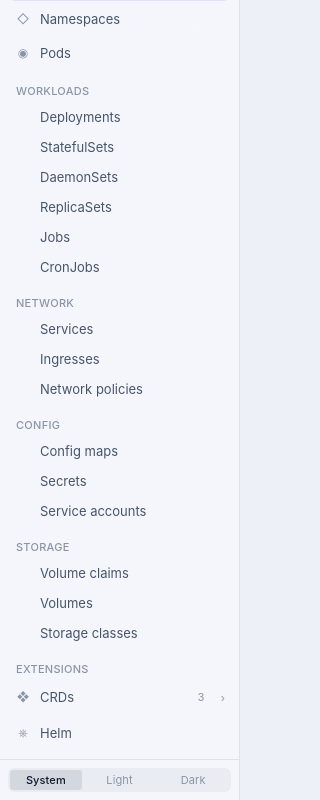
Test: Sidebar CRDs section › collapses again without navigating
(page scrolled)
Expected: the text "3" is shown, [197, 689, 205, 705]
Click the button named "Expand CRDs". click: (223, 698)
box: [215, 681, 231, 715]
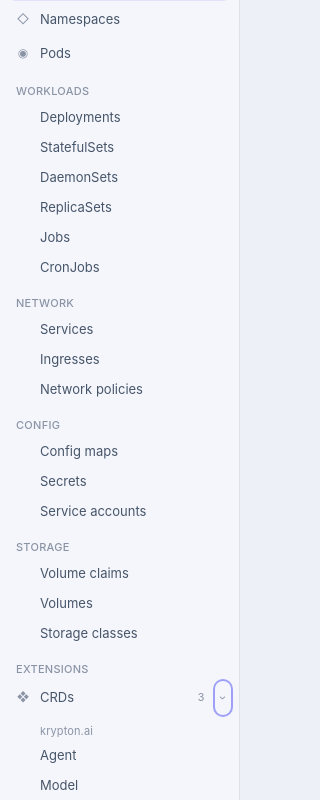
Expected: the button "Agent" is shown, [8, 741, 231, 769]
Click the button named "Collapse CRDs". click: (223, 698)
box: [215, 681, 231, 715]
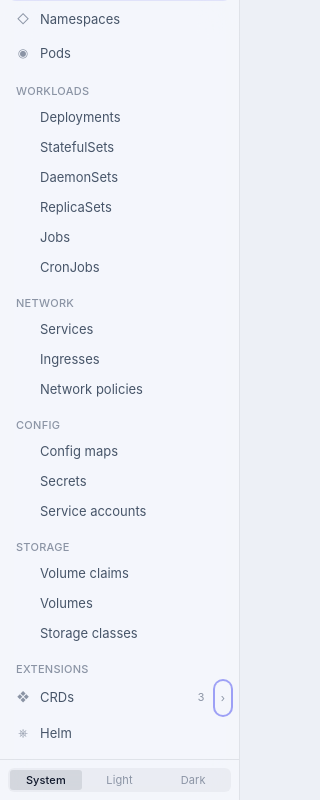
Expected: the button "Agent" is gone
